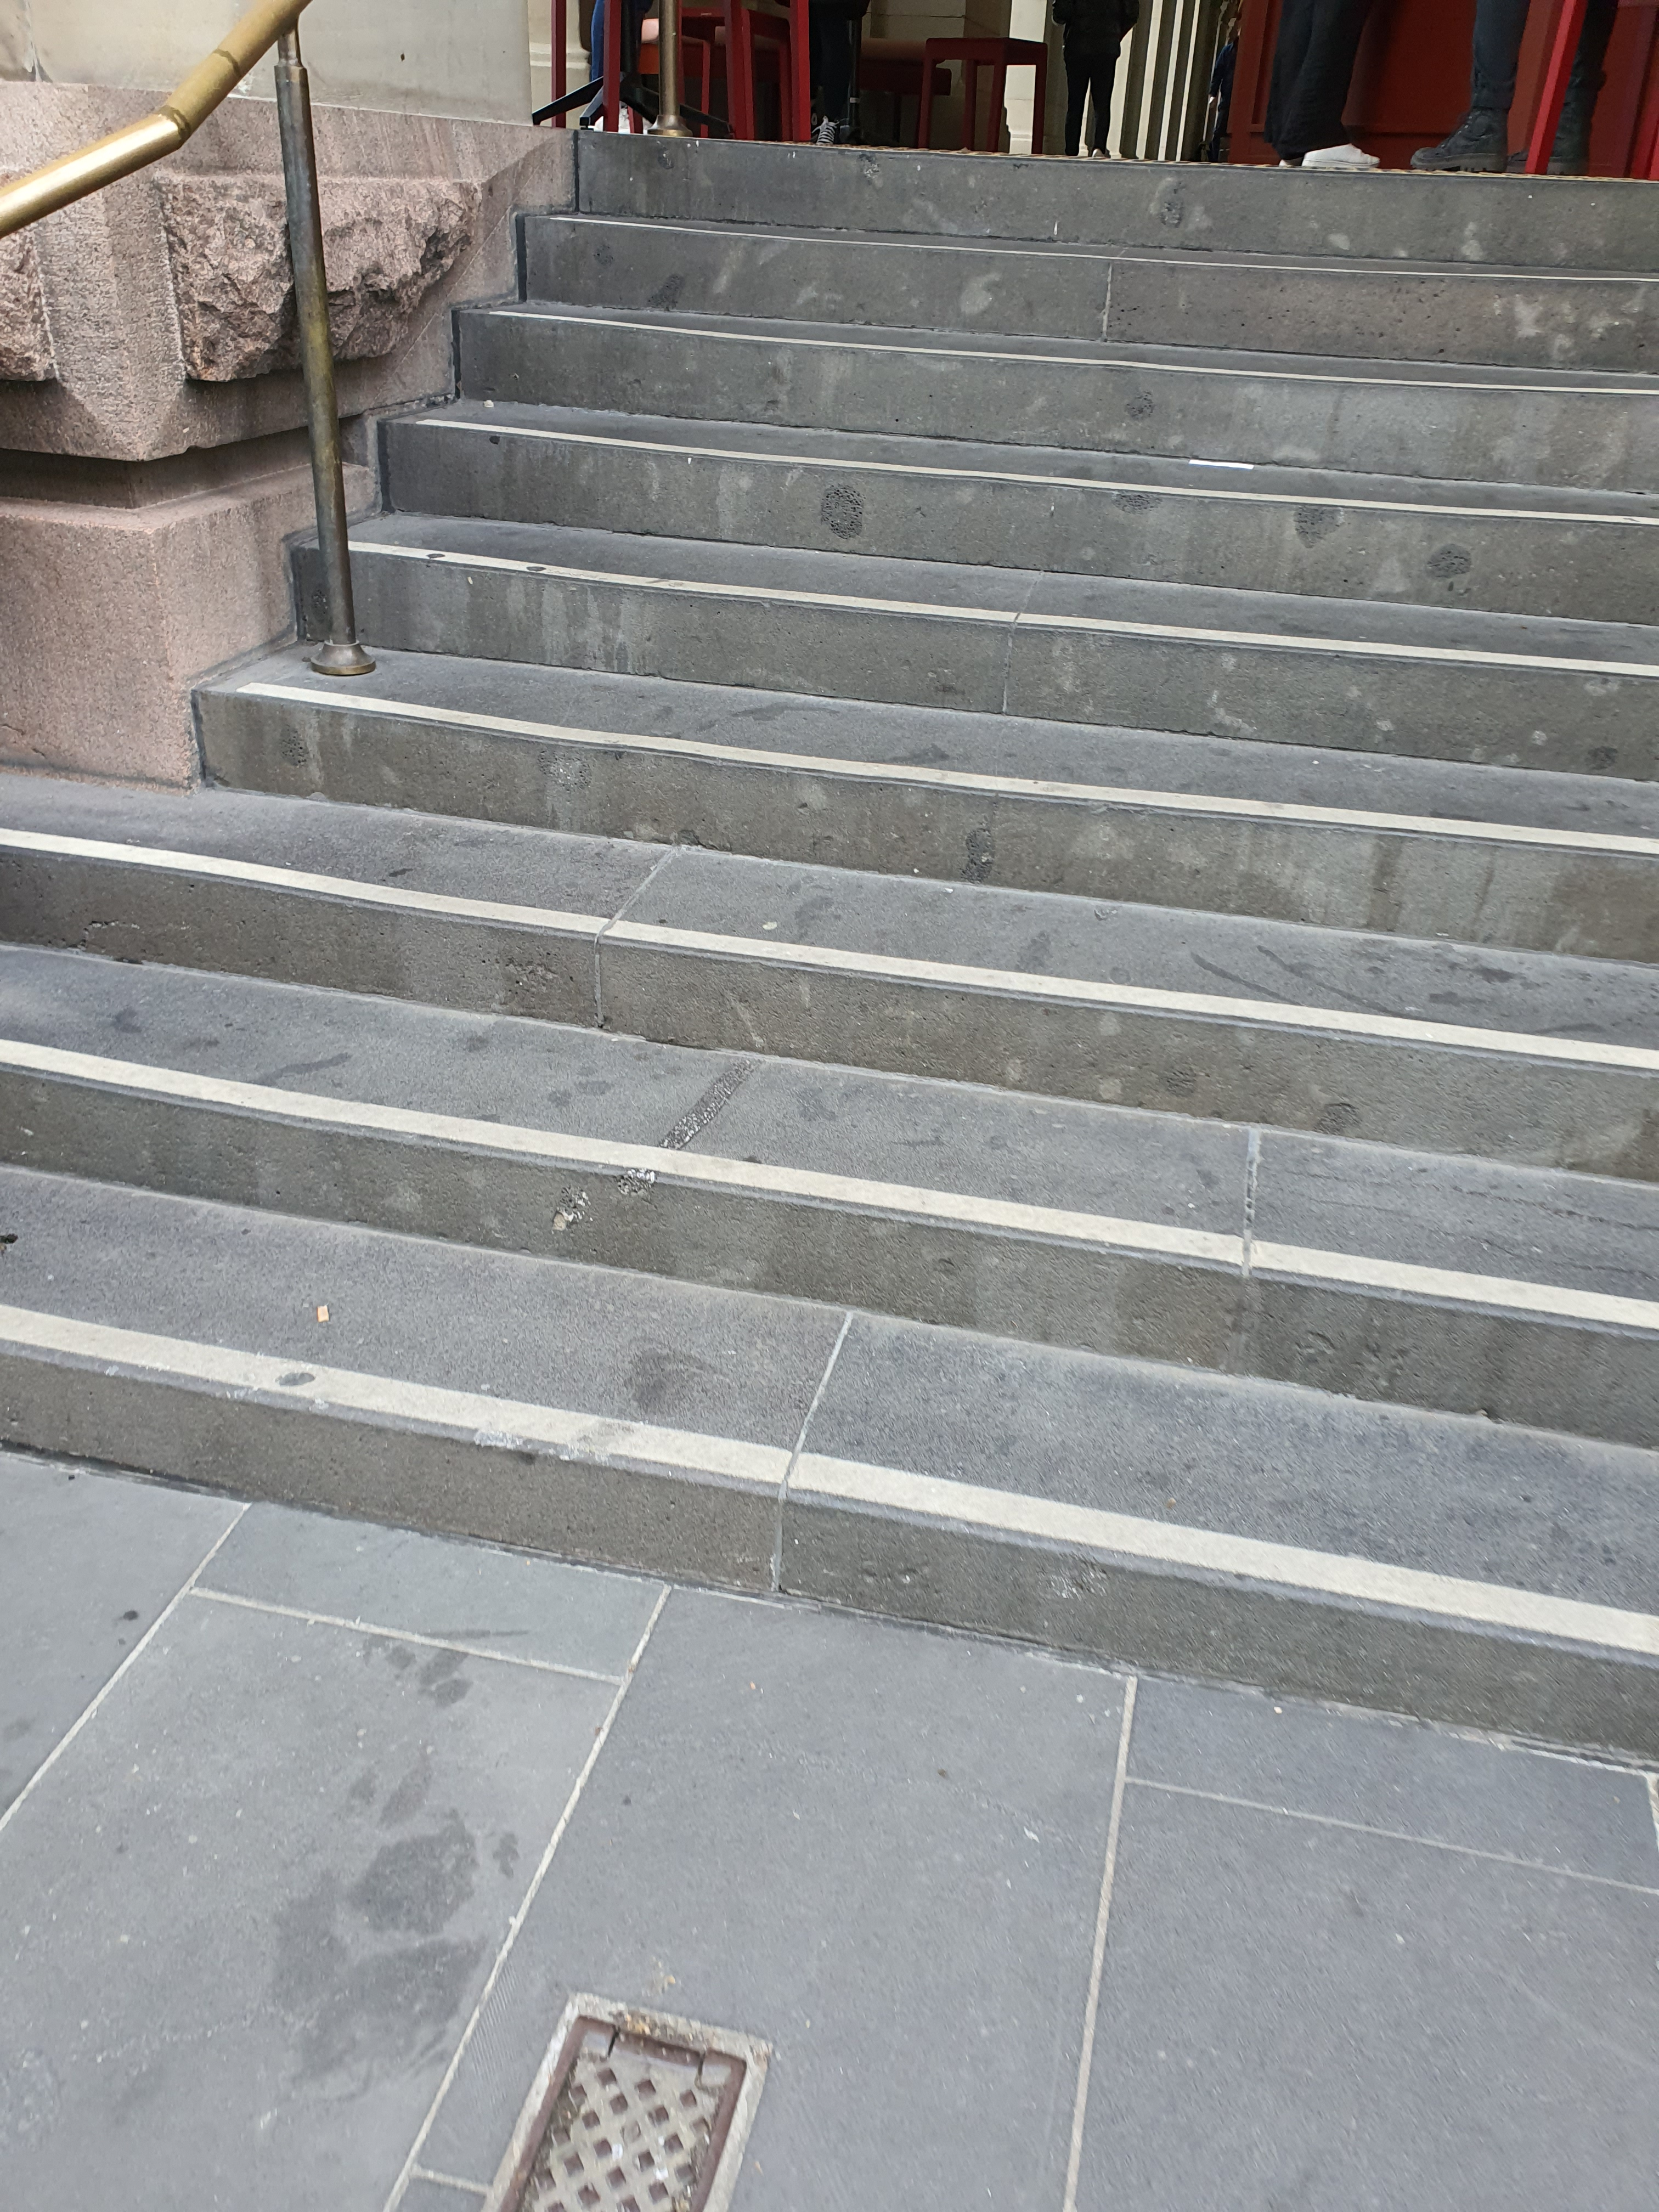upstairs: (227, 653, 1640, 1817)
